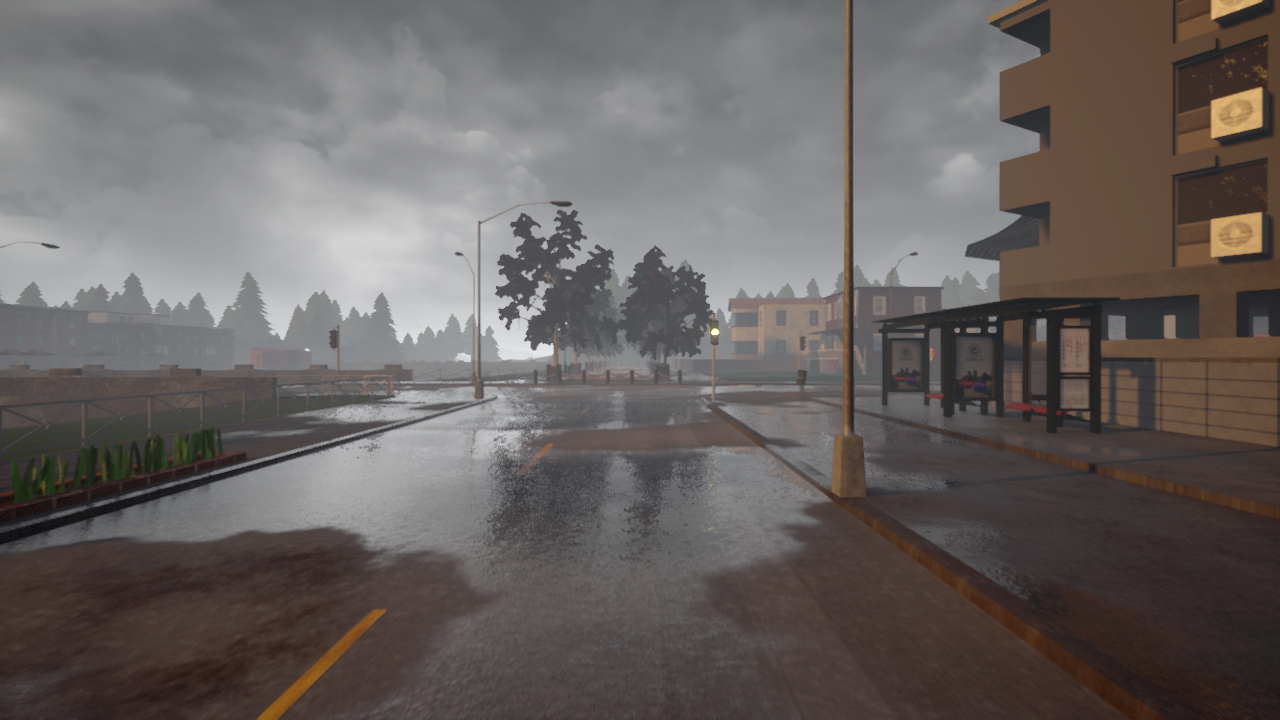yellow: (709, 319, 720, 345)
